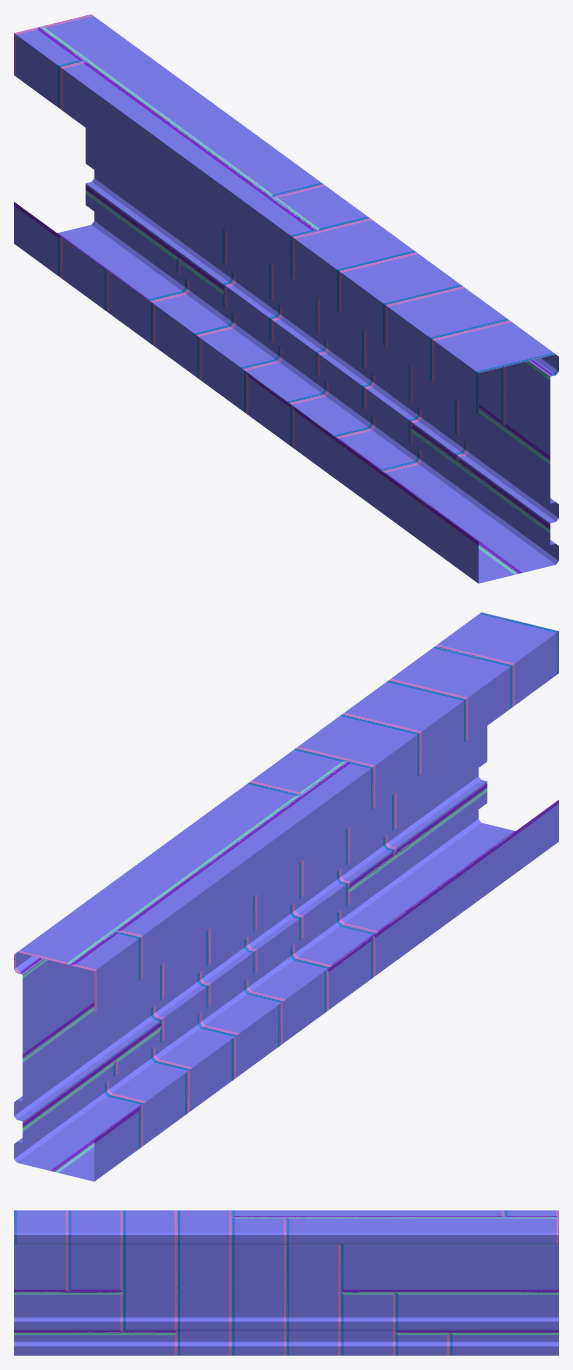
Rendered from Side Paneling.fbx.
3 views of the same model, one above another, from view 1: azimuth 30°, elevation 25°; view 2: azimuth 150°, elevation 25°; view 3: azimuth 270°, elevation 25° (orthographic). The views are drawn at different scales.
Parts seen in each view (by area): view 1: Side_Panel; view 2: Side_Panel; view 3: Side_Panel.
Part boxes in pixels (x1=…): Side_Panel: x1=14, y1=14, x2=558, y2=583; Side_Panel: x1=14, y1=612, x2=558, y2=1181; Side_Panel: x1=14, y1=1210, x2=558, y2=1355.
Size of the model in its own units: 20 by 50 by 200.
